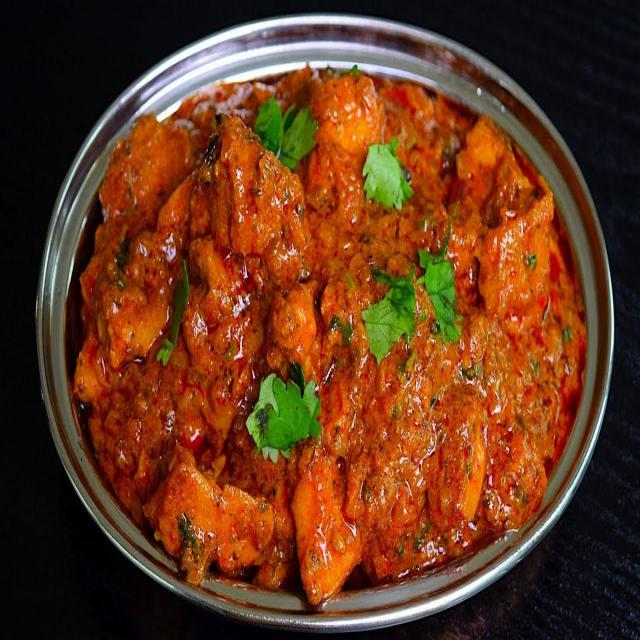chicken: (60, 6, 608, 583)
